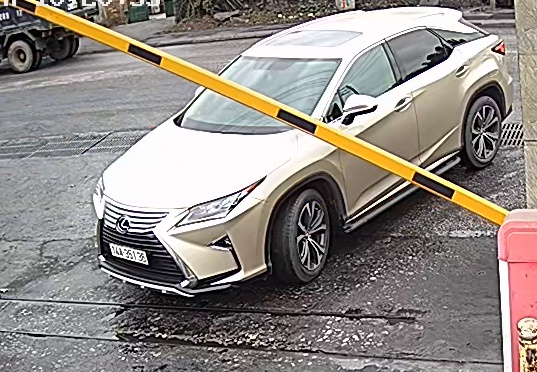vehicle plate: (102, 241, 152, 269)
